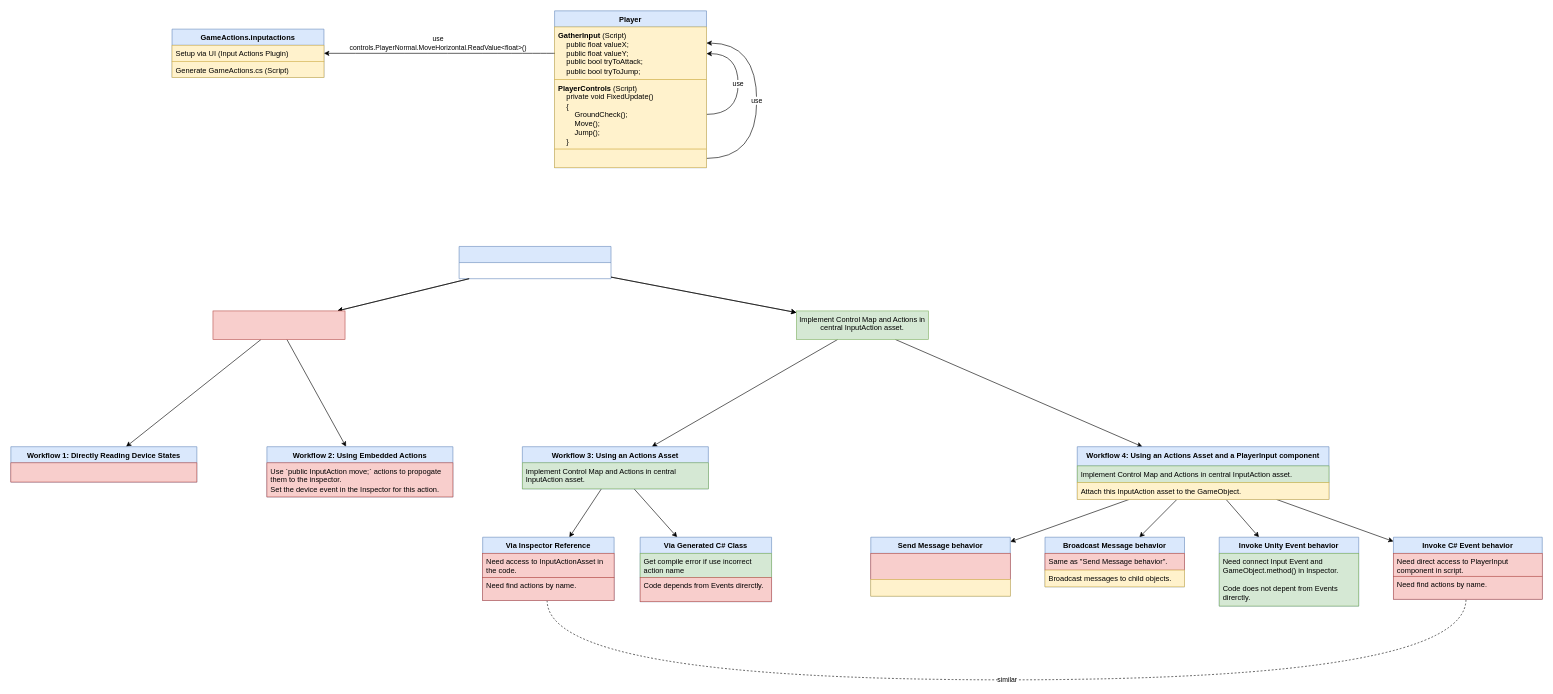
The diagram is 1553 pixels wide and 694 high, and some of its shapes have lost their labels. Each missing label, with the centre of its shape:
AttackControls (Script): point (630, 158)
Fast and simple to implement.: point (940, 587)
Implement callback methods in C# using same name of action.: point (940, 566)
Link callback and device event separatly for every action: point (278, 324)
Read device events in the code.: point (103, 472)
Unity Input System Workflows: point (534, 262)
